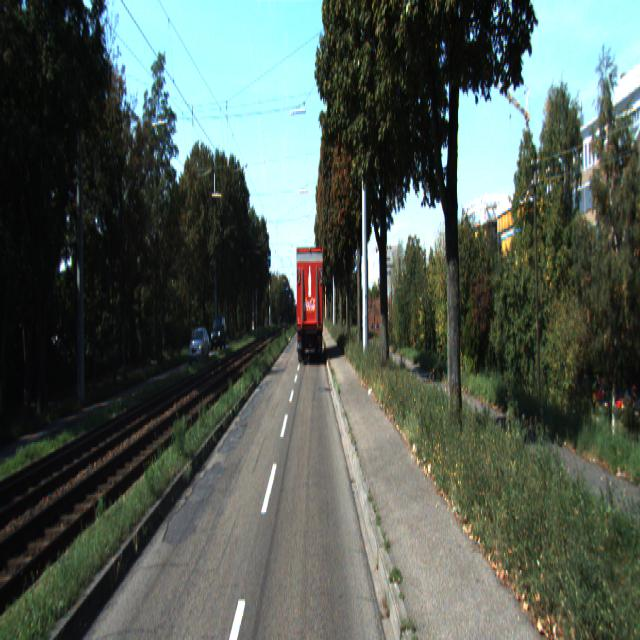Car: (294, 242, 325, 362), (188, 323, 210, 365), (210, 313, 227, 351)
